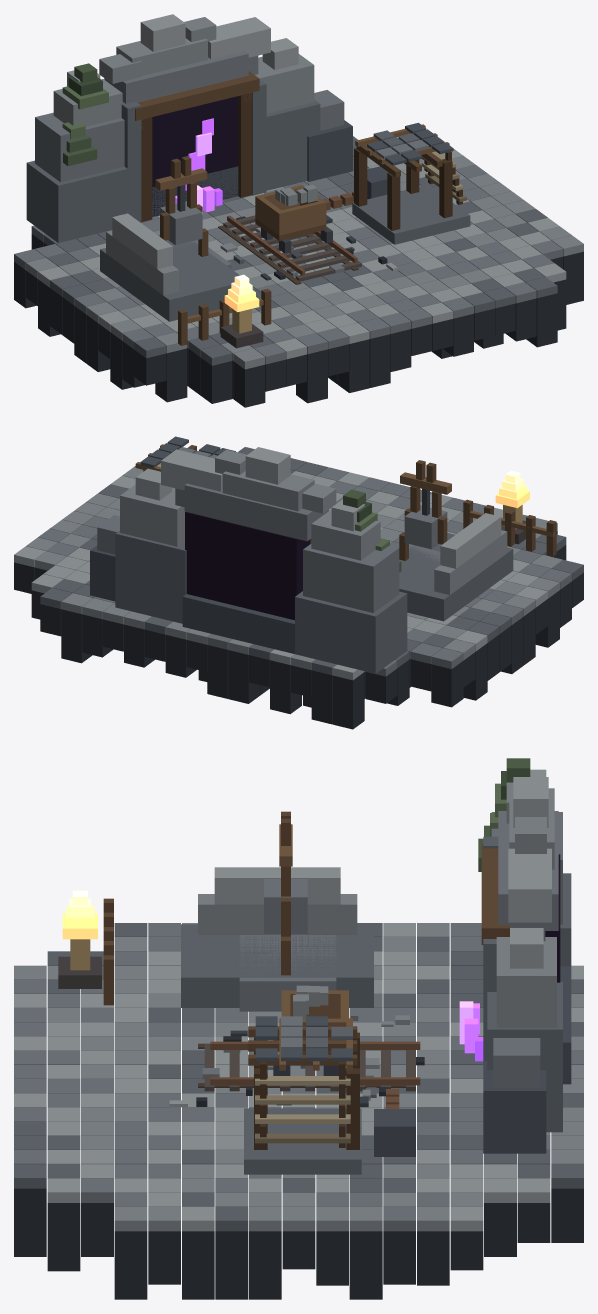
The model's file is preview-graystone-quarry.glb.
3 renders of one model, top to bottom at view 1: azimuth 30°, elevation 25°; view 2: azimuth 150°, elevation 25°; view 3: azimuth 270°, elevation 25°, orthographic. The views are drawn at different scales.
Visible parts, largest first — view 1: Terrain, Preview_Mine_Wall, Floating_Bedrock, Preview_Terrace, Preview_Tunnel, Preview_Tunnel_Timber, Preview_Shed_Base, Minecart, Preview_Crane, Preview_Rails, Preview_Shed_Roof, Preview_Shed (+8 smaller); view 2: Preview_Mine_Wall, Terrain, Floating_Bedrock, Preview_Tunnel, Preview_Terrace, Preview_Crane, Preview_Fence, Preview_Shed_Roof, Flame, Brazier; view 3: Terrain, Floating_Bedrock, Preview_Mine_Wall, Preview_Terrace, Preview_Shed_Base, Preview_Shed_Roof, Preview_Canvas, Preview_Rails, Preview_Crane, Minecart, Surface_Chips, Preview_Anchor (+6 smaller).
Boxes of the visible parts, x1,y1,x2,y2 form: Terrain: [14, 136, 583, 369]; Preview_Mine_Wall: [26, 14, 352, 242]; Floating_Bedrock: [14, 234, 583, 407]; Preview_Terrace: [100, 213, 239, 321]; Preview_Tunnel: [152, 96, 238, 216]; Preview_Tunnel_Timber: [135, 71, 259, 222]; Preview_Shed_Base: [352, 184, 470, 244]; Minecart: [255, 184, 332, 253]; Preview_Crane: [155, 156, 208, 256]; Preview_Rails: [223, 215, 361, 281]; Preview_Shed_Roof: [355, 122, 453, 177]; Preview_Shed: [354, 148, 452, 230]; Preview_Mine_Wall: [90, 447, 407, 673]; Terrain: [14, 447, 583, 680]; Floating_Bedrock: [14, 531, 583, 729]; Preview_Tunnel: [185, 512, 309, 620]; Preview_Terrace: [399, 513, 513, 621]; Preview_Crane: [399, 460, 451, 560]; Preview_Fence: [463, 499, 556, 556]; Preview_Shed_Roof: [135, 436, 235, 471]; Flame: [495, 470, 529, 508]; Brazier: [501, 505, 525, 544]; Terrain: [14, 923, 583, 1231]; Floating_Bedrock: [14, 1188, 583, 1299]; Preview_Mine_Wall: [478, 758, 571, 1153]; Preview_Terrace: [181, 867, 373, 1011]; Preview_Shed_Base: [244, 1108, 361, 1174]; Preview_Shed_Roof: [248, 1016, 357, 1070]; Preview_Canvas: [255, 1061, 350, 1147]; Preview_Rails: [204, 1041, 420, 1091]; Preview_Crane: [264, 811, 307, 975]; Minecart: [273, 985, 348, 1075]; Surface_Chips: [169, 1013, 424, 1107]; Preview_Anchor: [374, 1109, 415, 1156].
Size of the model in its own units: 8.39 by 4.3 by 6.79.
